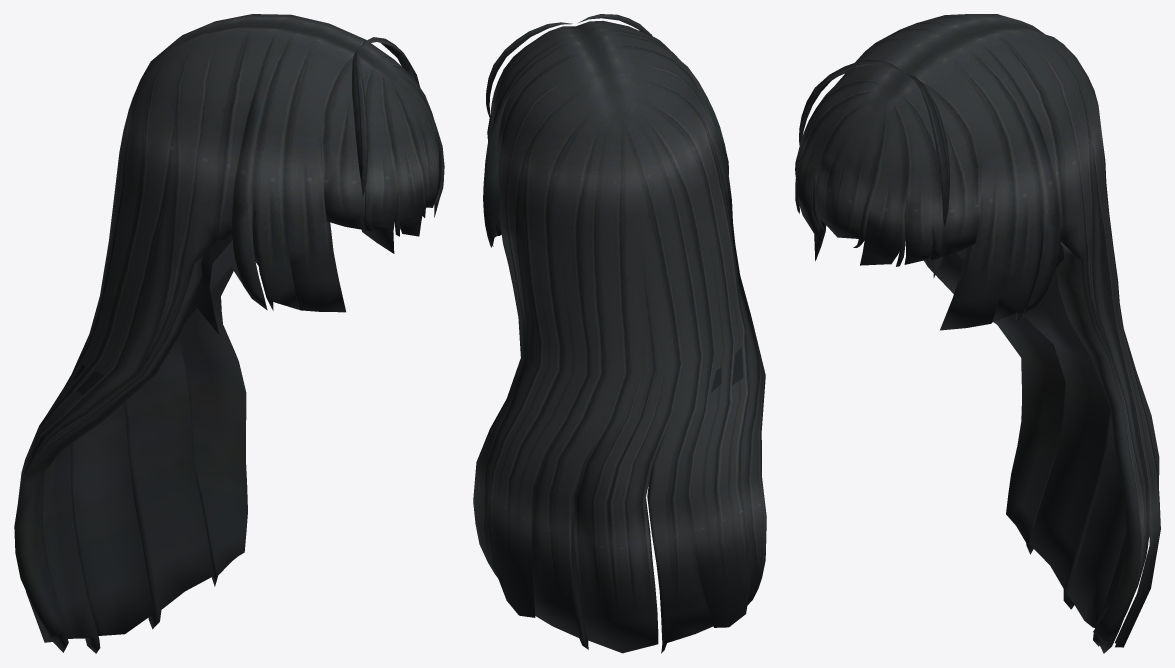
The model's file is GHair_2.glb.
3 renders of one model, left to right at view 1: azimuth 30°, elevation 25°; view 2: azimuth 150°, elevation 25°; view 3: azimuth 270°, elevation 25°, orthographic. The views are drawn at different scales.
Parts seen in each view (by area): view 1: Object_7; view 2: Object_7; view 3: Object_7.
Part boxes in pixels (x1,y1,x2,y2): Object_7: (14,14,444,653); Object_7: (473,14,766,653); Object_7: (795,14,1160,653).
Bounding box in the file's own units: 0.0421 × 0.0707 × 0.0364.
Materials: 1 (1 with a texture image).
